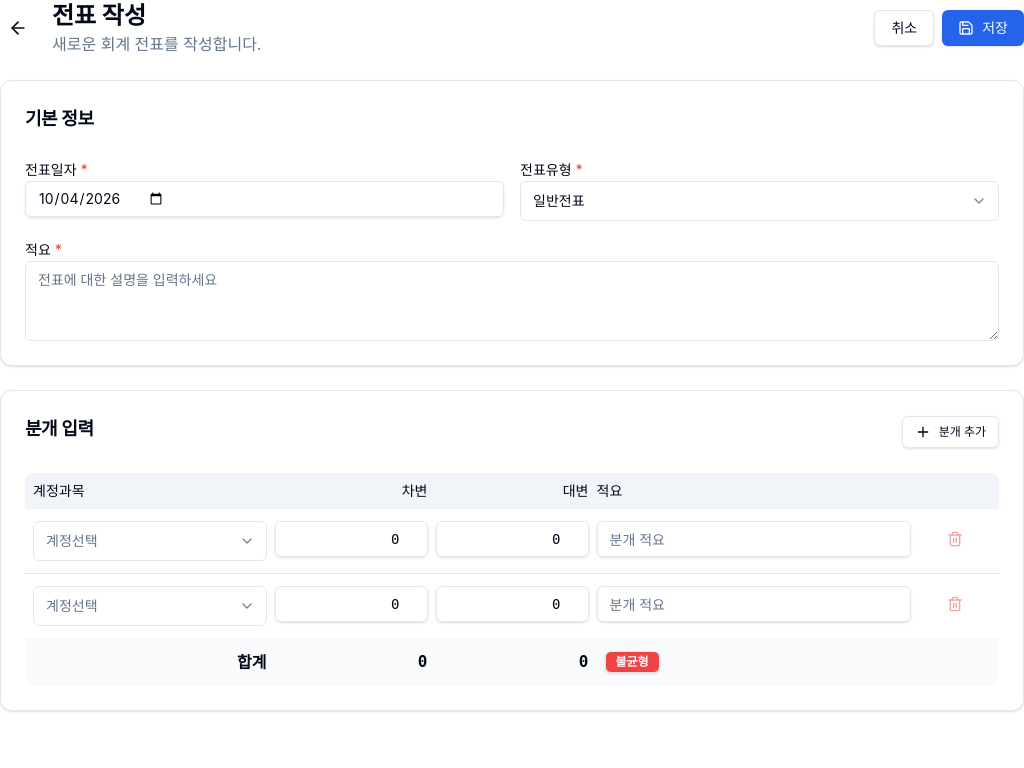
Scenario: VoucherFormPage › form validation › should show error for unbalanced entries
This screenshot has width=1024, height=768.
Note: Fill in basic info
In the text box labelled "적요*": (512, 301) x1=25 y1=261 x2=999 y2=341, type "Test voucher"
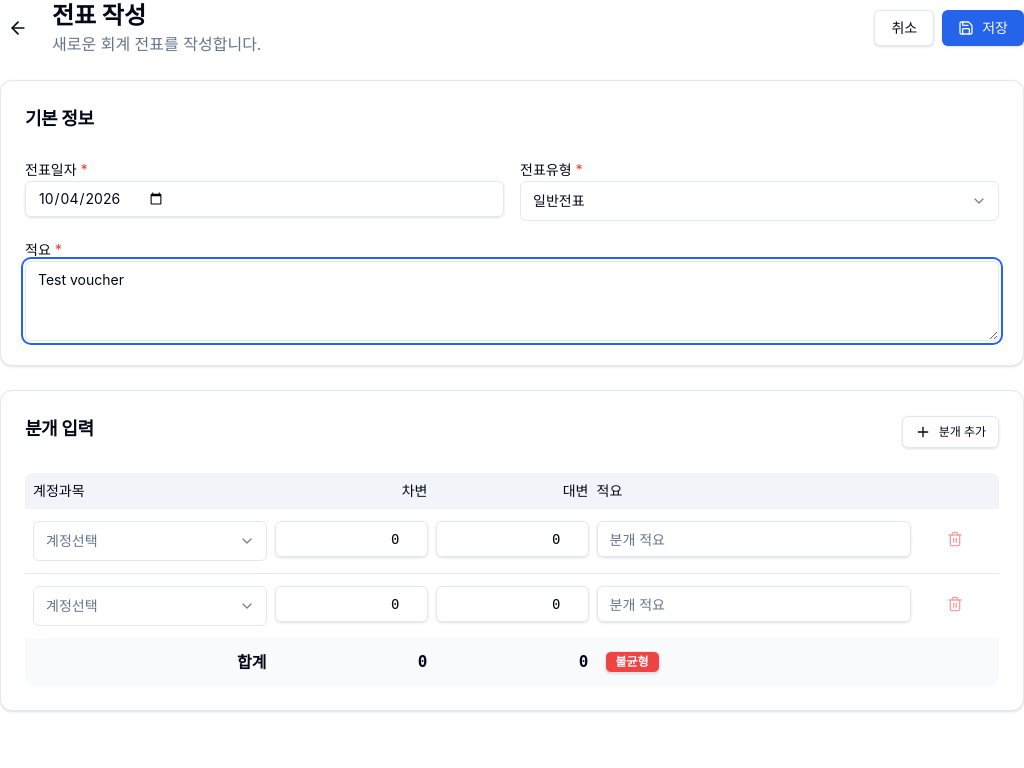
Select "101 Cash" in the 2nd dropdown: (150, 541) x1=33 y1=521 x2=266 y2=561
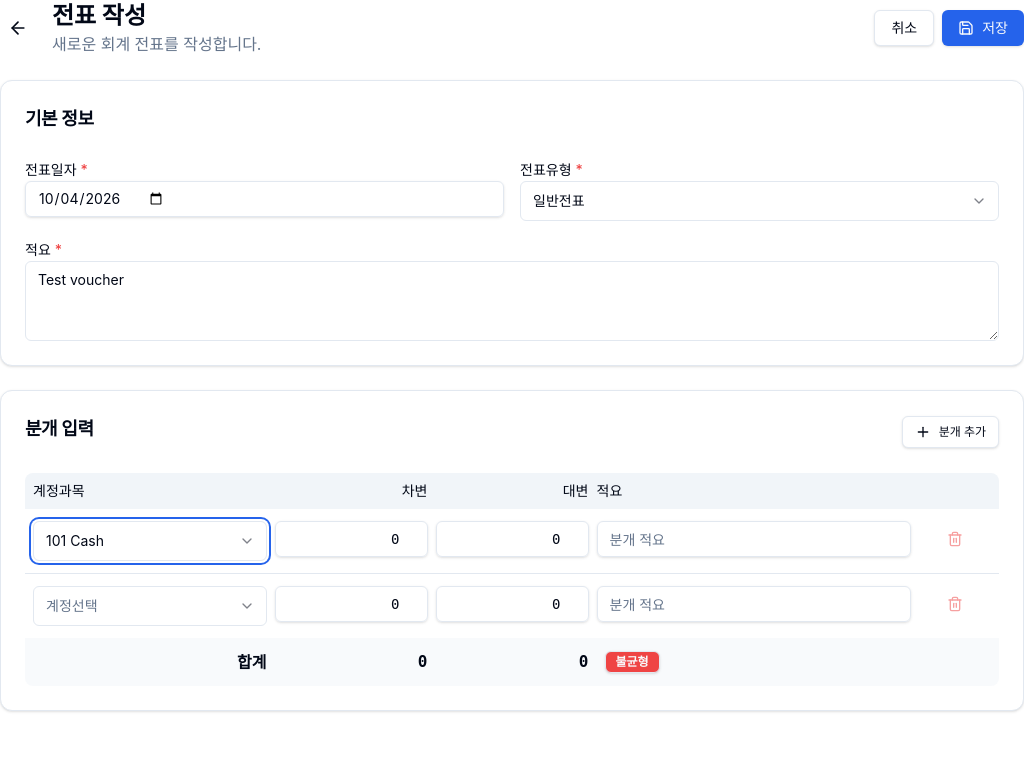
Select "401 Sales Revenue" in the 3rd dropdown: (150, 606) x1=33 y1=586 x2=266 y2=626
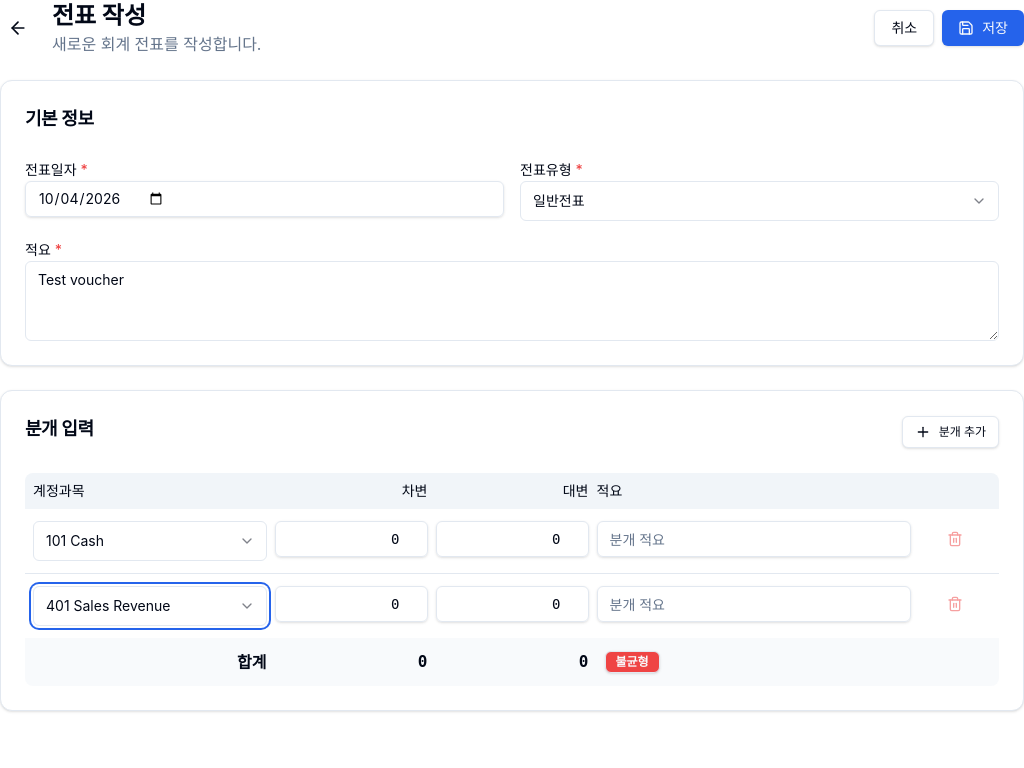
In the 1st number field: (351, 539) x1=274 y1=521 x2=428 y2=557, type "10000"
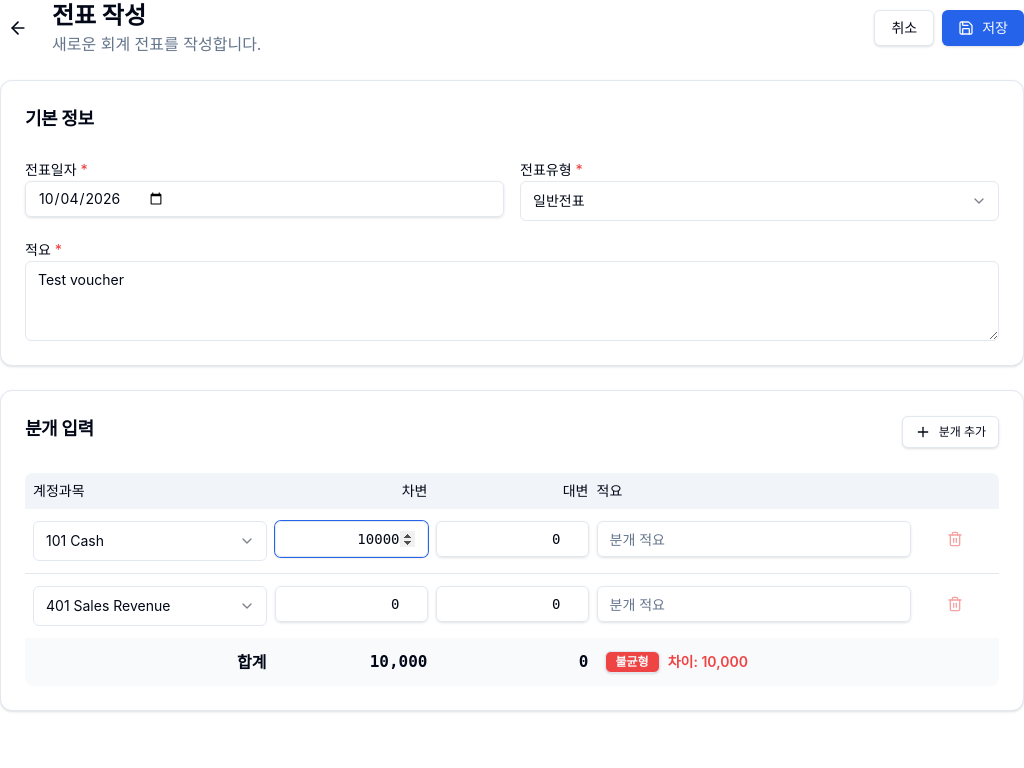
In the 2nd number field: (512, 539) x1=436 y1=521 x2=588 y2=557, type "5000"
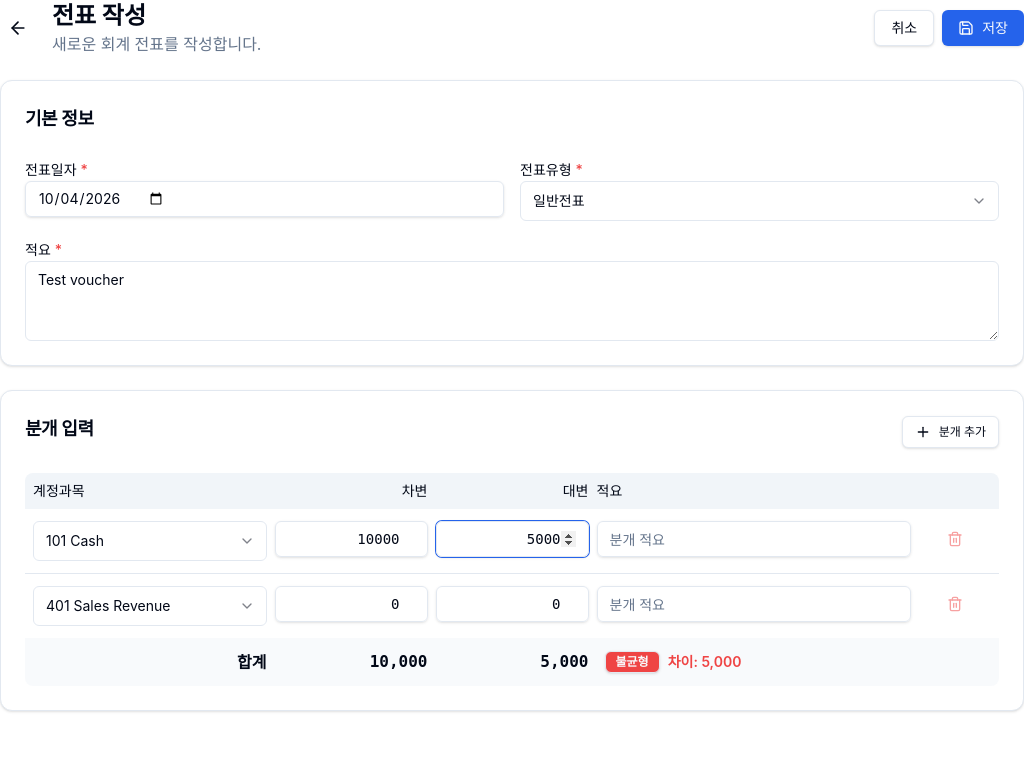
Click the button "저장": (983, 28) x1=942 y1=10 x2=1023 y2=46
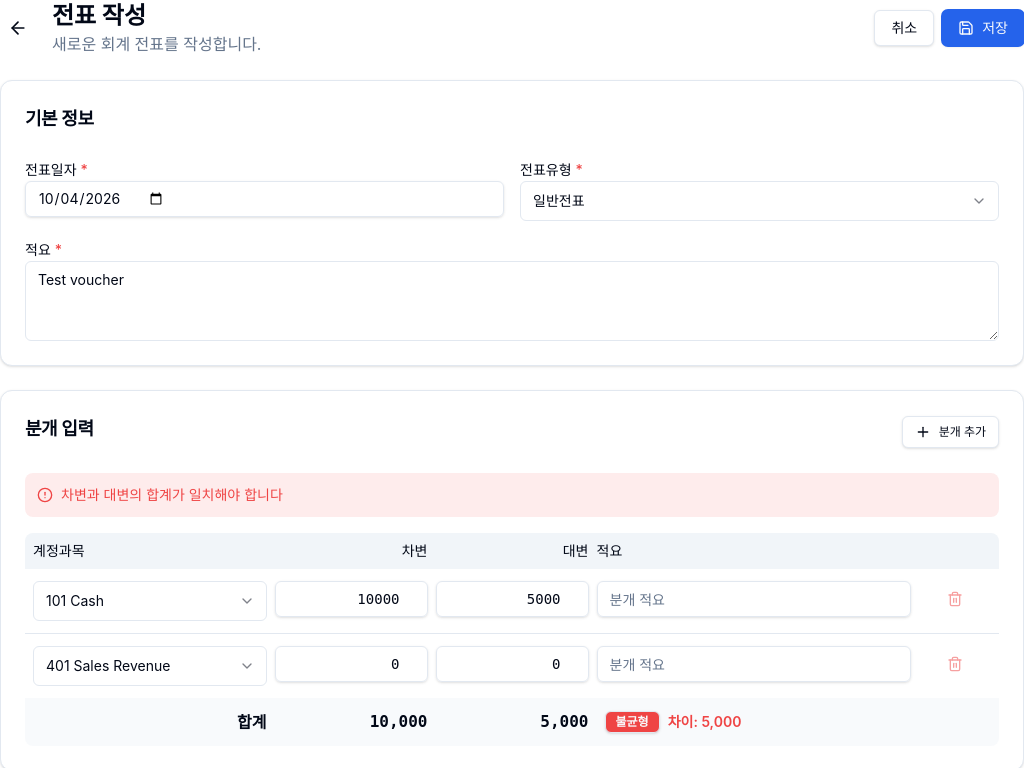
Check: the text "차변과 대변의 합계가 일치해야 합니다" is shown, box x1=61 y1=485 x2=283 y2=505
